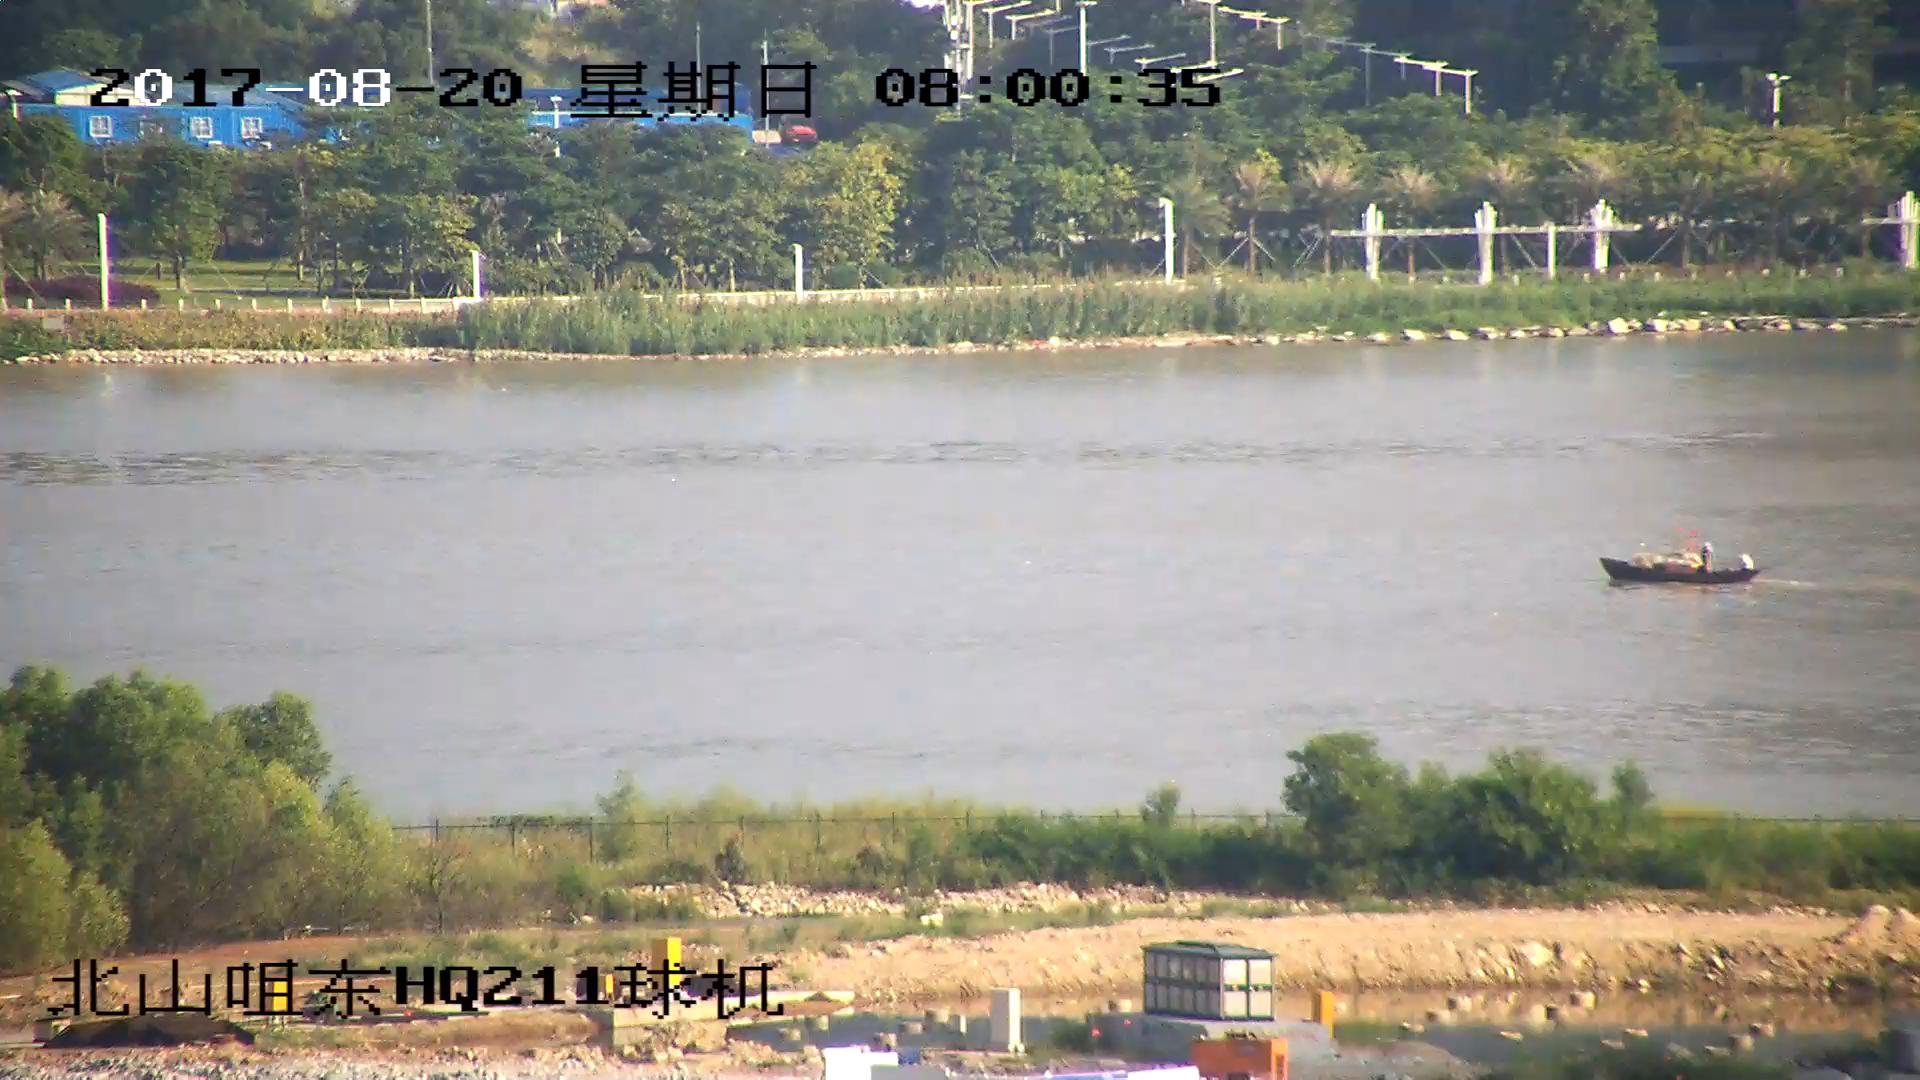fishing boat: (1602, 535, 1757, 589)
